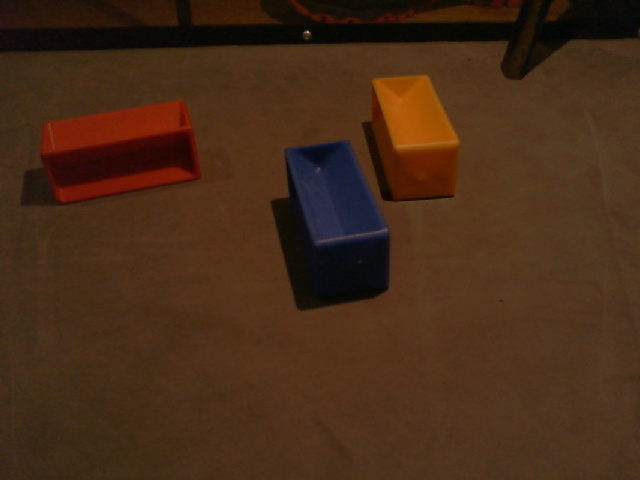BlueSample: (280, 138, 392, 296)
RedSample: (38, 98, 204, 209)
YellowSample: (367, 72, 461, 202)
